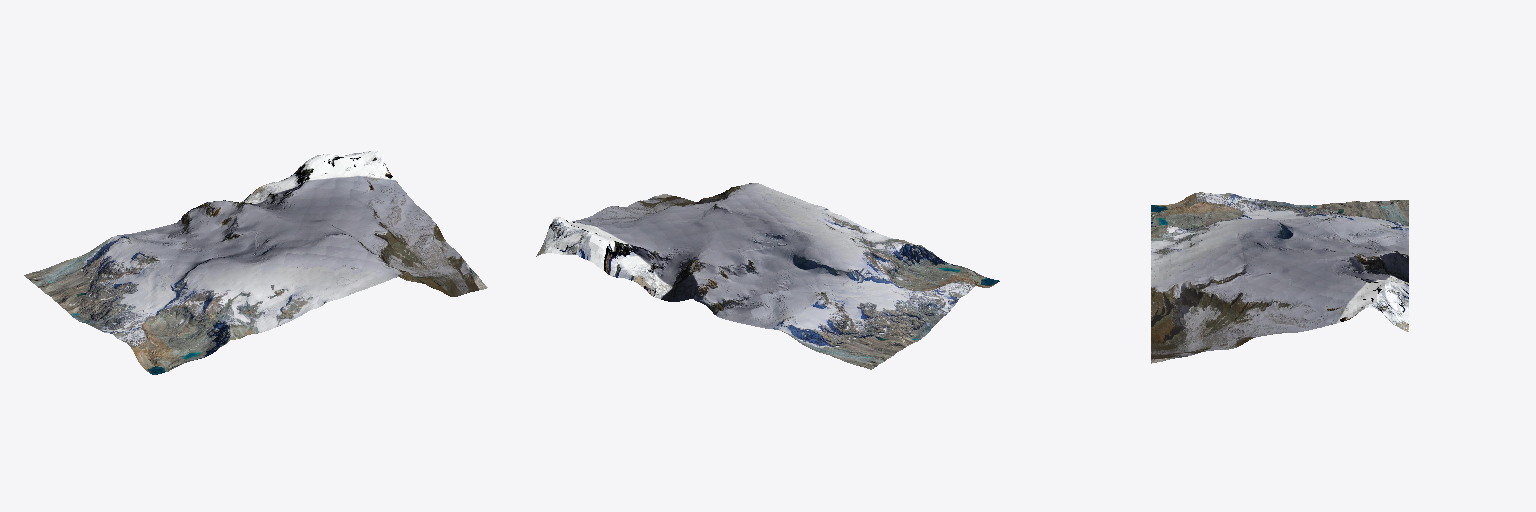
3 views of the same model, side by side, from view 1: azimuth 30°, elevation 25°; view 2: azimuth 150°, elevation 25°; view 3: azimuth 270°, elevation 25° (orthographic).
Visible parts, largest first — view 1: EXPORT_GOOGLE_SAT_WM.011; view 2: EXPORT_GOOGLE_SAT_WM.011; view 3: EXPORT_GOOGLE_SAT_WM.011.
Boxes of the visible parts, box(x1,y1,x2,y2) form: EXPORT_GOOGLE_SAT_WM.011: box(24, 151, 487, 374); EXPORT_GOOGLE_SAT_WM.011: box(536, 183, 999, 369); EXPORT_GOOGLE_SAT_WM.011: box(1151, 192, 1408, 363).
Size of the model in its own units: 9124 by 1663 by 6083.
1 materials, 1 textured.